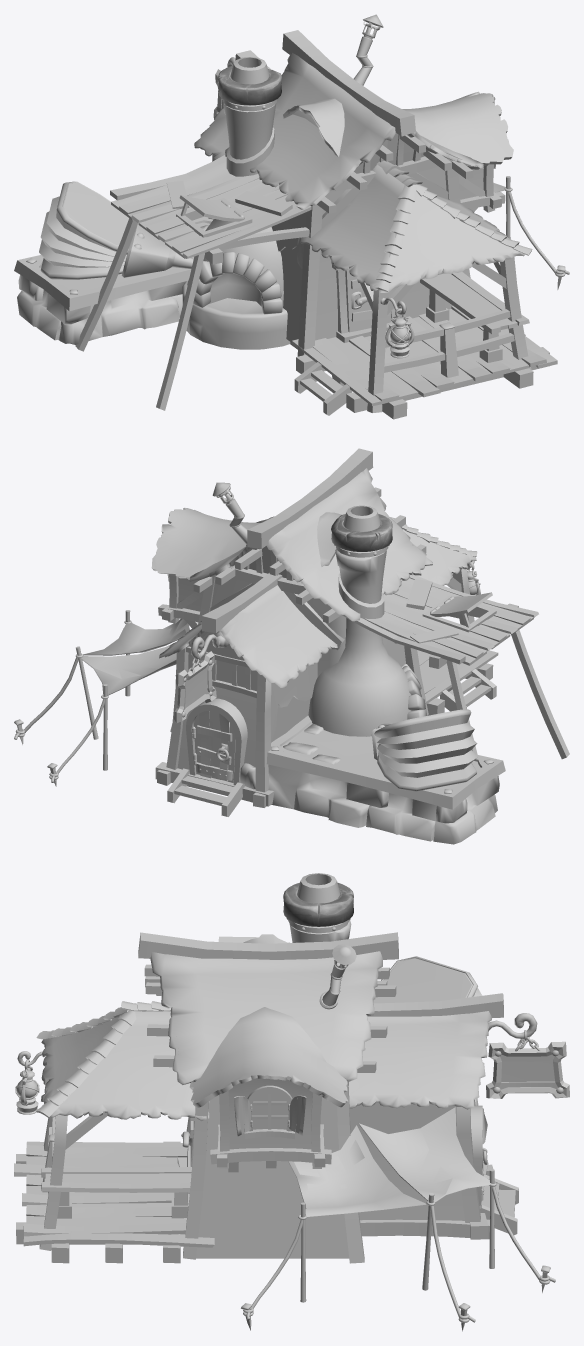
Rendered from Blacksmith01.fbx.
3 renders of one model, top to bottom at view 1: azimuth 30°, elevation 25°; view 2: azimuth 150°, elevation 25°; view 3: azimuth 270°, elevation 25°, orthographic. The views are drawn at different scales.
Parts seen in each view (by area): view 1: Blacksmith01; view 2: Blacksmith01; view 3: Blacksmith01.
Part boxes in pixels (box(x1,y1,x2,y2)): Blacksmith01: box(14, 14, 569, 419); Blacksmith01: box(14, 448, 569, 844); Blacksmith01: box(14, 873, 569, 1331).
Size of the model in its own units: 14.85 by 8.49 by 13.89.
